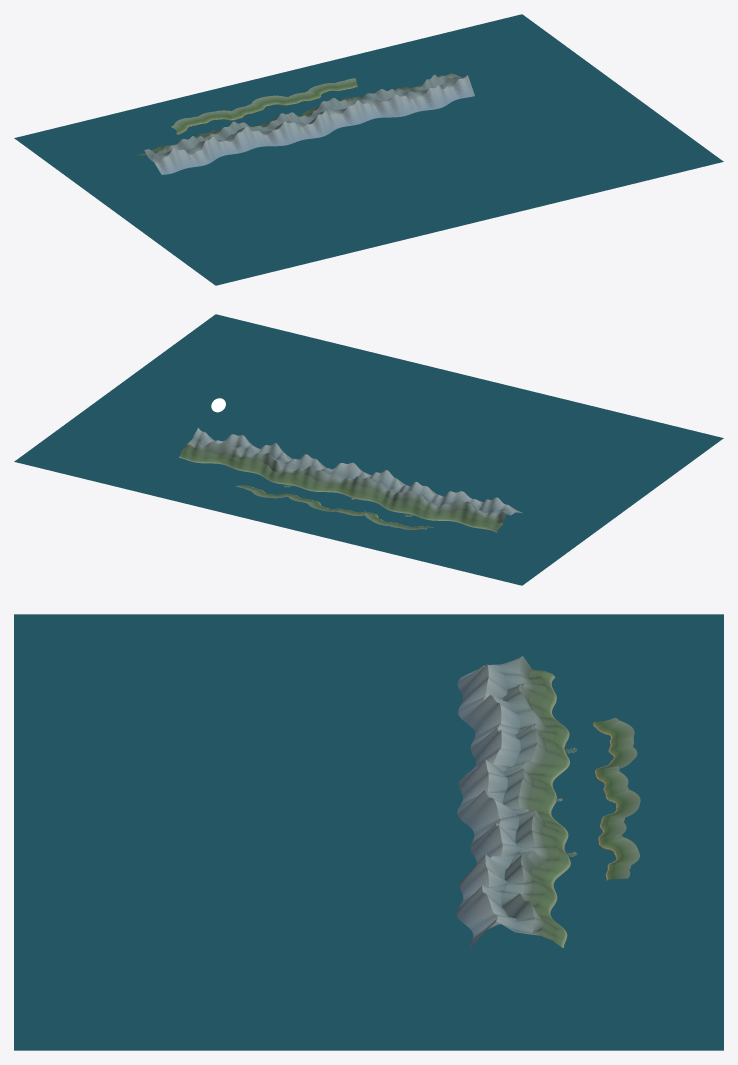
File: como.glb
3 renders of one model, top to bottom at view 1: azimuth 30°, elevation 25°; view 2: azimuth 150°, elevation 25°; view 3: azimuth 270°, elevation 25°, orthographic. The views are drawn at different scales.
Visible parts, largest first — view 1: Sea, Land_000, Land_013, Land_004, Land_008, Land_012, Land_009, Land_010; view 2: Sea, Land_000, Land_013, Land_004, Land_008, Land_010, Land_012, Land_009; view 3: Sea, Land_013, Land_000, Land_004, Land_008, Land_010, Land_012, Land_009, Land_005, Land_006, Land_002.
Boxes of the visible parts, <box> form: Sea: <box>14,14,723,285</box>; Land_000: <box>138,125,242,174</box>; Land_013: <box>346,73,474,116</box>; Land_004: <box>228,110,301,152</box>; Land_008: <box>283,96,335,138</box>; Land_012: <box>336,80,398,118</box>; Land_009: <box>289,91,356,128</box>; Land_010: <box>307,87,374,124</box>; Sea: <box>14,314,723,585</box>; Land_000: <box>416,488,522,532</box>; Land_013: <box>179,428,281,488</box>; Land_004: <box>363,470,430,515</box>; Land_008: <box>304,462,371,503</box>; Land_010: <box>274,454,316,498</box>; Land_012: <box>245,447,294,491</box>; Land_009: <box>288,460,333,502</box>; Sea: <box>14,614,723,1050</box>; Land_013: <box>456,853,630,947</box>; Land_000: <box>457,656,618,748</box>; Land_004: <box>458,728,619,797</box>; Land_008: <box>457,782,624,831</box>; Land_010: <box>470,821,634,863</box>; Land_012: <box>463,845,631,879</box>; Land_009: <box>470,809,626,845</box>; Land_005: <box>462,768,628,801</box>; Land_006: <box>461,777,639,806</box>; Land_002: <box>515,725,637,757</box>.
Size of the model in its own units: 32000 by 3024 by 22000.
